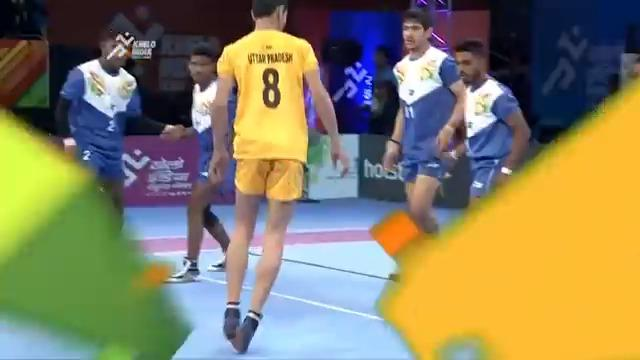Player: (54, 24, 182, 230), (380, 7, 467, 281), (160, 42, 234, 283), (444, 37, 532, 210)
Raider: (206, 0, 349, 353)
